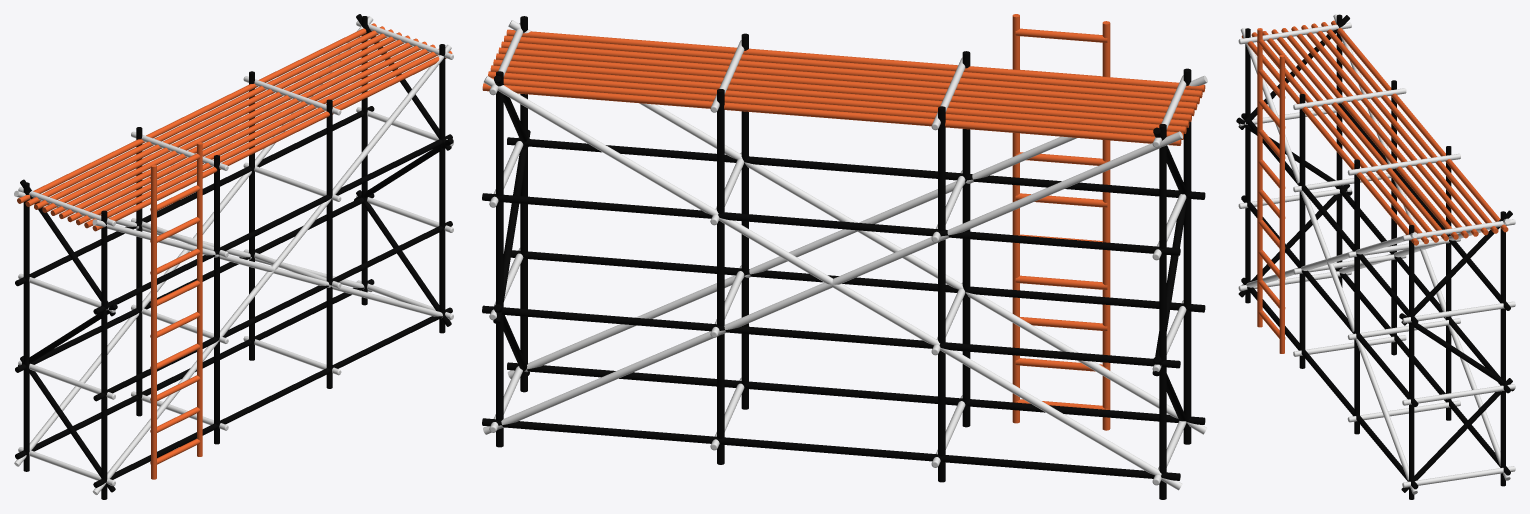
Rendered from scaffolding.glb.
3 renders of one model, left to right at view 1: azimuth 30°, elevation 25°; view 2: azimuth 150°, elevation 25°; view 3: azimuth 270°, elevation 25°, orthographic. The views are drawn at different scales.
Parts seen in each view (by area): view 1: Cylinder.004, Cylinder.003, Cylinder.002, Cylinder, Cylinder.001, Cylinder.005, Cylinder.013, Cylinder.014, Cylinder.006, Cylinder.010, Cylinder.007, Cylinder.009 (+3 smaller); view 2: Cylinder.004, Cylinder.003, Cylinder.005, Cylinder.001, Cylinder.006, Cylinder, Cylinder.002, Cylinder.013, Cylinder.014, Cylinder.011, Cylinder.008; view 3: Cylinder.004, Cylinder.002, Cylinder.003, Cylinder, Cylinder.001, Cylinder.006, Cylinder.013, Cylinder.014, Cylinder.005, Cylinder.010, Cylinder.012, Cylinder.011 (+3 smaller).
Part boxes in pixels (box(x1,y1,x2,y2)): Cylinder.004: box(17, 23, 452, 231); Cylinder.003: box(15, 106, 452, 487); Cylinder.002: box(18, 21, 453, 486); Cylinder: box(101, 44, 445, 499); Cylinder.001: box(23, 16, 367, 471); Cylinder.005: box(14, 16, 451, 494); Cylinder.013: box(151, 142, 202, 479); Cylinder.014: box(150, 153, 200, 464); Cylinder.006: box(14, 190, 450, 320); Cylinder.010: box(356, 190, 451, 326); Cylinder.007: box(20, 356, 115, 492); Cylinder.009: box(20, 179, 115, 316); Cylinder.004: box(482, 29, 1205, 145); Cylinder.003: box(482, 137, 1205, 480); Cylinder.005: box(483, 20, 1207, 490); Cylinder.001: box(496, 71, 1166, 499); Cylinder.006: box(483, 75, 1207, 434); Cylinder: box(520, 16, 1191, 444); Cylinder.002: box(489, 23, 1186, 485); Cylinder.013: box(1012, 14, 1110, 430); Cylinder.014: box(1015, 28, 1107, 409); Cylinder.011: box(493, 130, 530, 323); Cylinder.008: box(1152, 202, 1186, 376); Cylinder.004: box(1241, 20, 1508, 245); Cylinder.002: box(1238, 22, 1515, 487); Cylinder.003: box(1241, 105, 1510, 489); Cylinder: box(1245, 28, 1414, 499); Cylinder.001: box(1336, 14, 1505, 486); Cylinder.006: box(1240, 14, 1510, 494); Cylinder.013: box(1257, 28, 1284, 353); Cylinder.014: box(1258, 39, 1285, 339); Cylinder.005: box(1241, 218, 1510, 287); Cylinder.010: box(1401, 378, 1512, 492); Cylinder.012: box(1401, 210, 1512, 325); Cylinder.011: box(1399, 313, 1514, 391).
Bounding box in the file's own units: 10.15 × 6.37 × 5.39.
